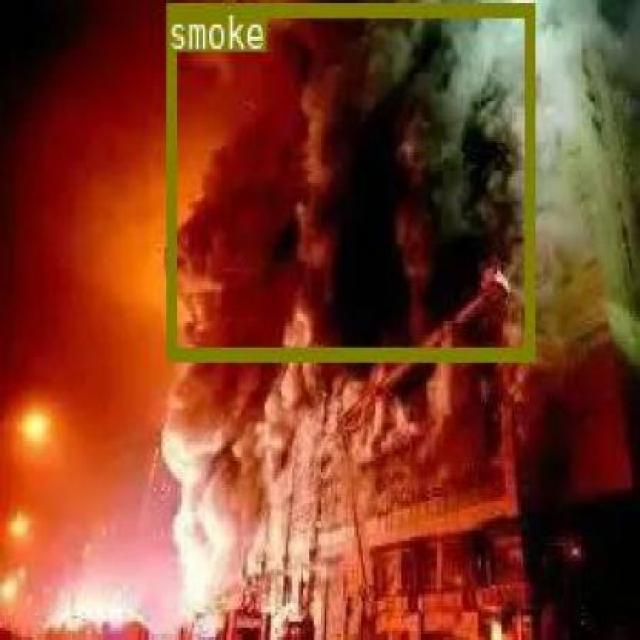smoke: (166, 1, 534, 357)
